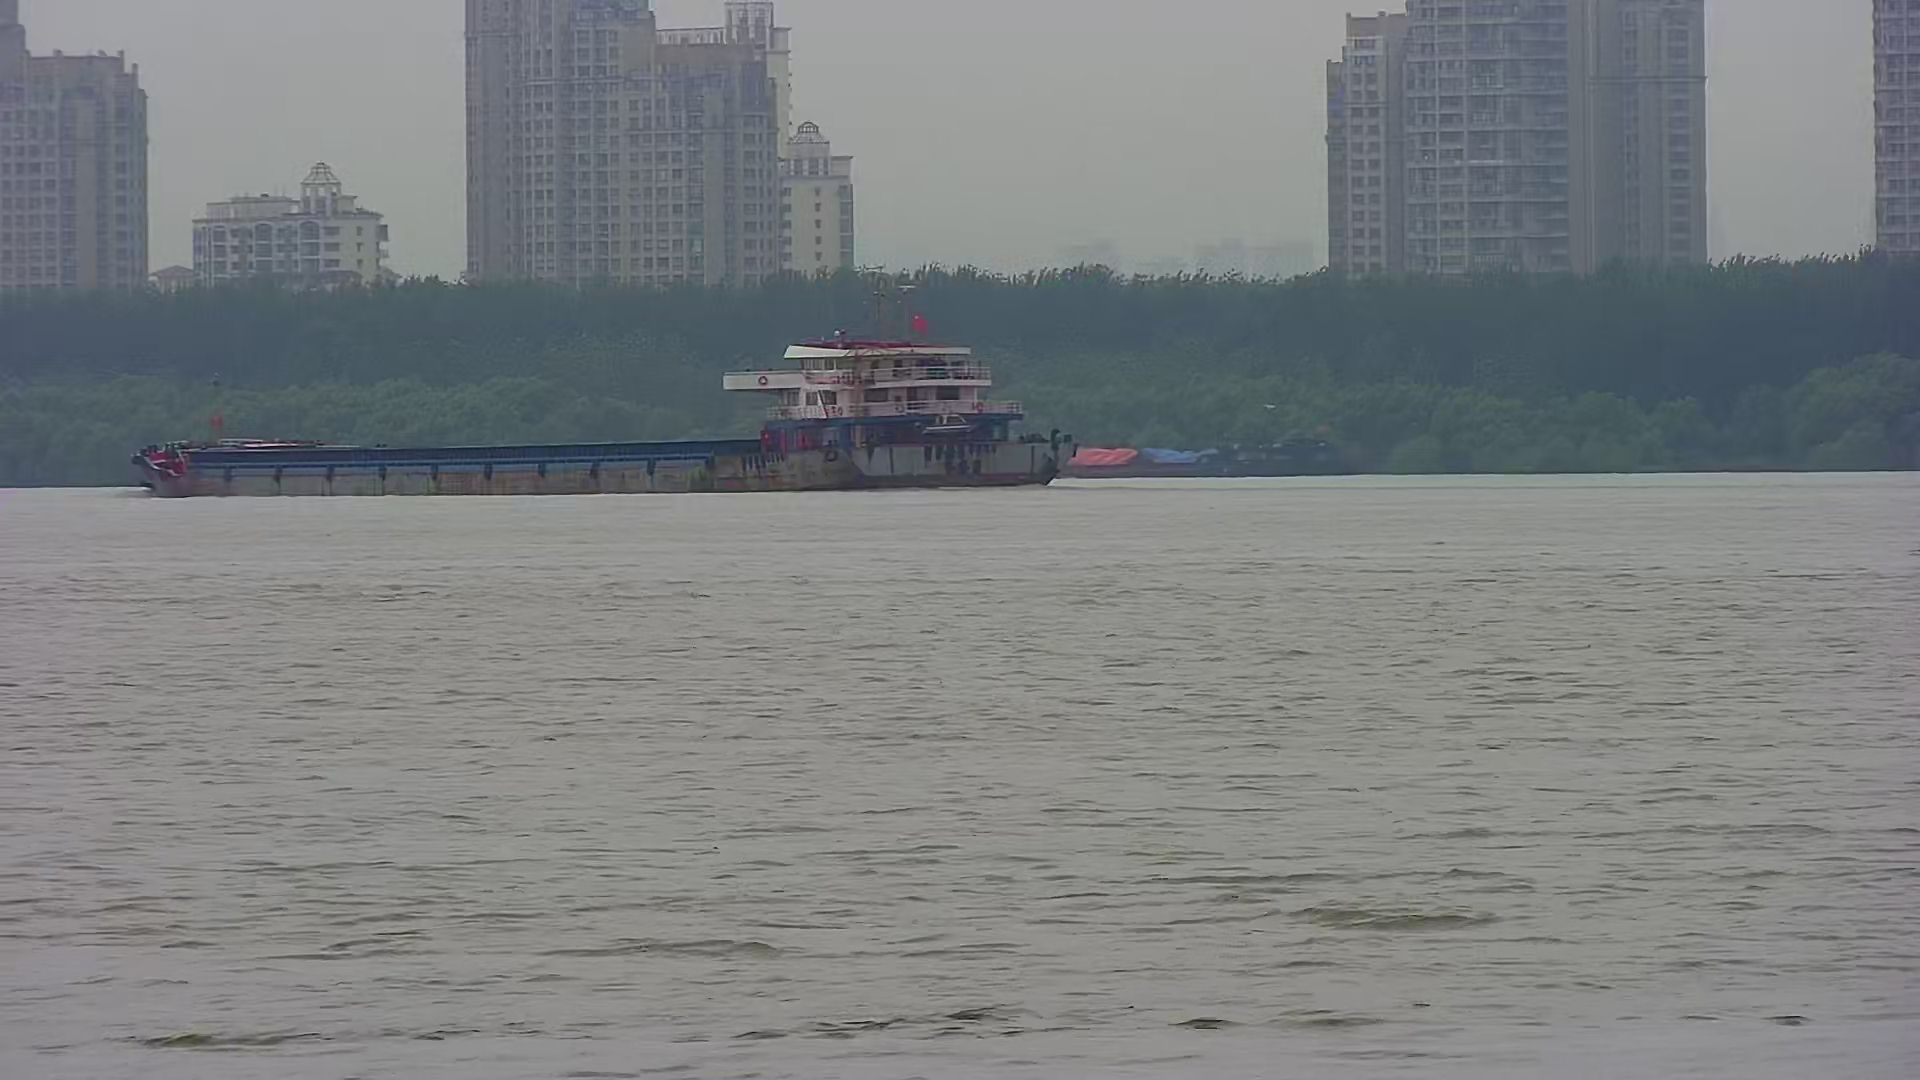ship: (131, 320, 1069, 492), (1040, 427, 1357, 473)
